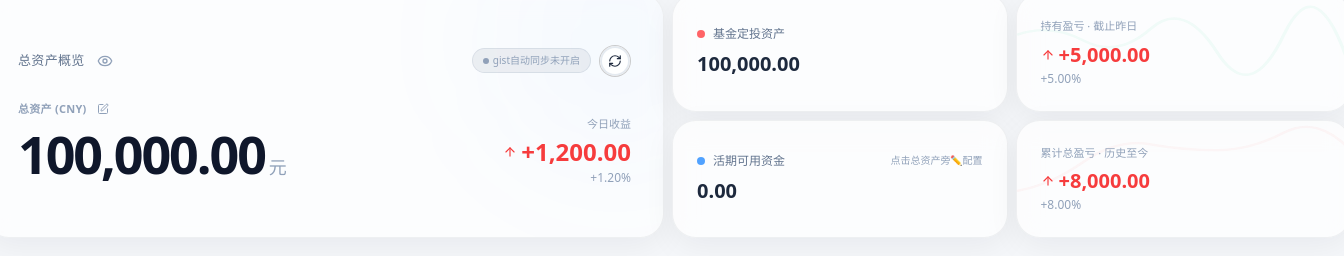
Scenario: AssetAllocationCard › 点击编辑按钮进入编辑模式
Click the button named "编辑总资产".
click(103, 109)  # box [95, 101, 111, 117]
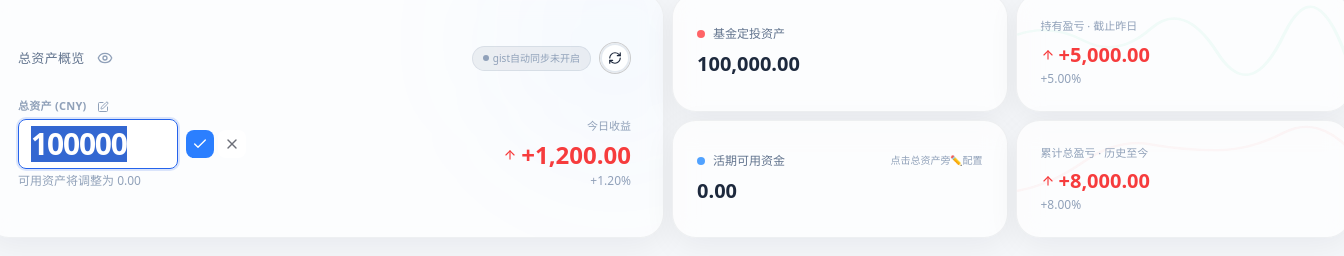
Now the number field with placeholder "输入总资产" is shown, box [18, 119, 178, 169]
Now the button named "确认" is shown, box [186, 130, 214, 158]
Now the button named "取消" is shown, box [218, 130, 246, 158]
